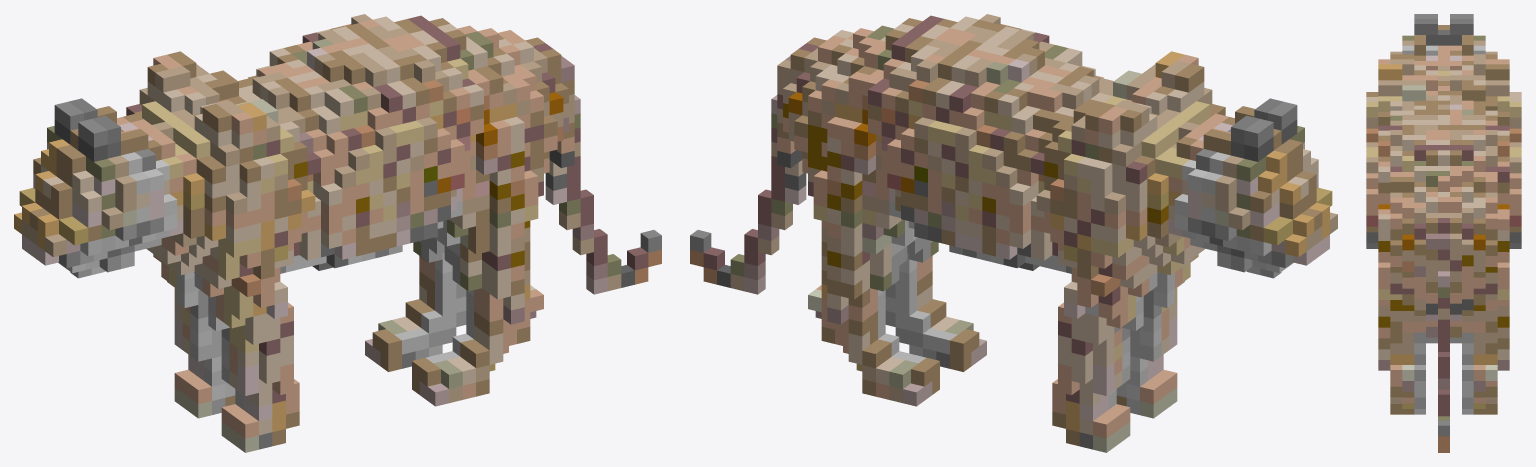
The model's file is bengal-tiger.glb.
The picture shows the model from 3 angles, left to right: view 1: azimuth 30°, elevation 25°; view 2: azimuth 150°, elevation 25°; view 3: azimuth 270°, elevation 25°; orthographic projection. The views are drawn at different scales.
Parts seen in each view (by area): view 1: Object_2; view 2: Object_2; view 3: Object_2.
Boxes of the visible parts, x1,y1,x2,y2 form: Object_2: [14, 14, 661, 452]; Object_2: [690, 14, 1337, 452]; Object_2: [1366, 14, 1521, 452].
Bounding box in the file's own units: 46 × 24 × 13.
